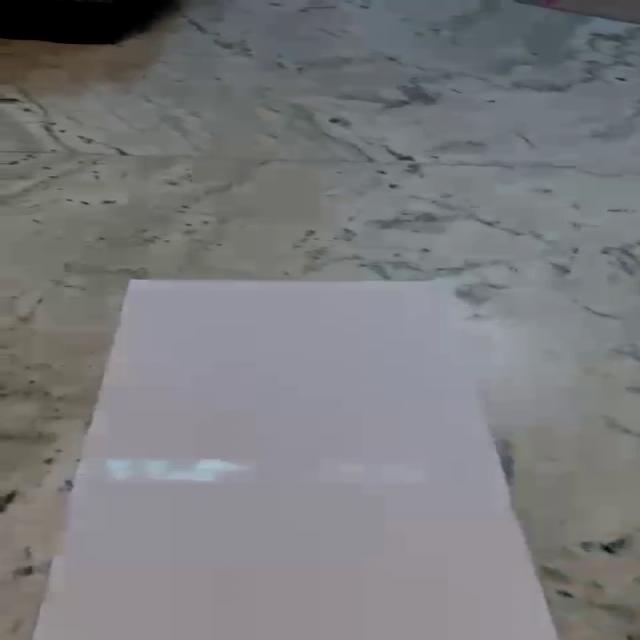road: (31, 280, 559, 640)
